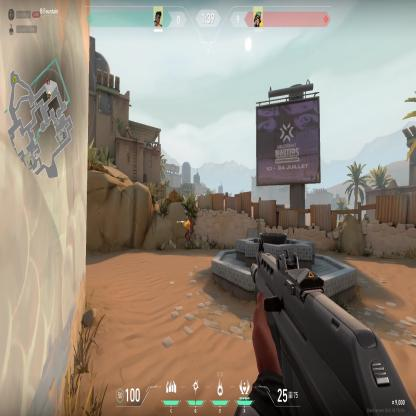enemy: (180, 214, 195, 250)
